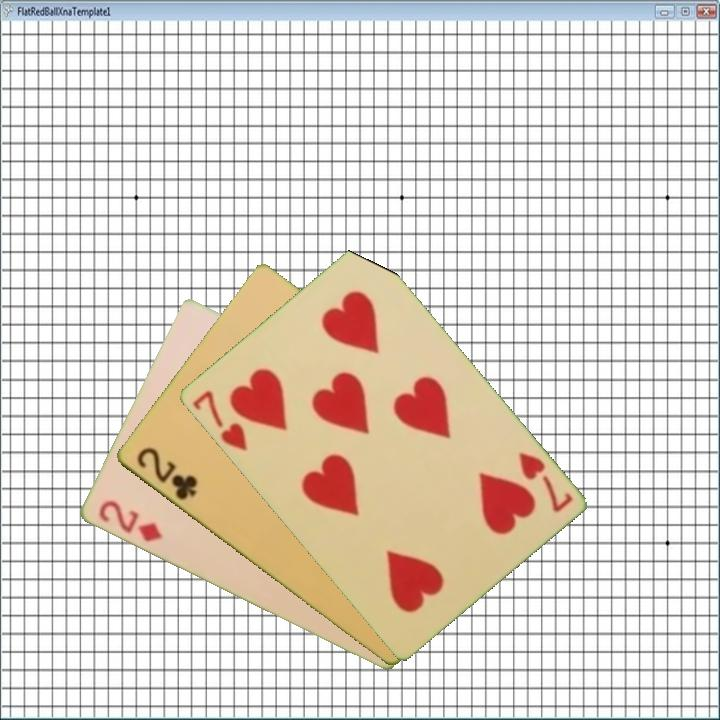2c: (133, 443, 200, 503)
2d: (94, 497, 165, 545)
7h: (188, 387, 250, 454), (514, 448, 575, 516)
